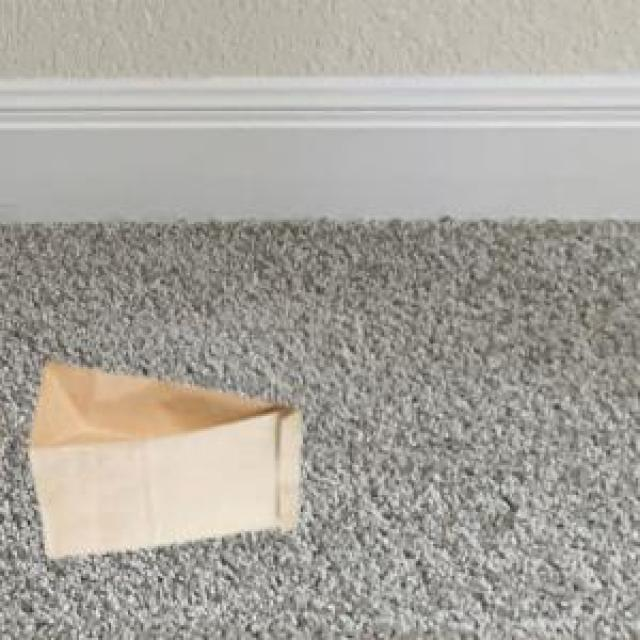paper: (26, 358, 297, 553)
